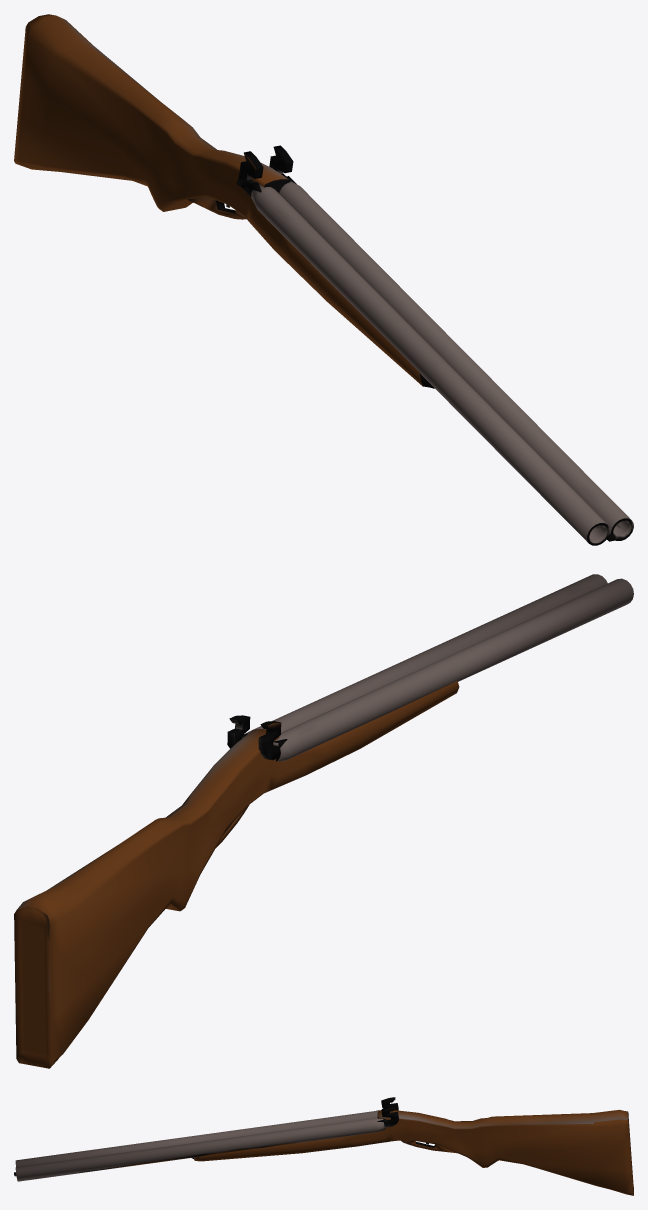
Rendered from gun.obj.
3 renders of one model, top to bottom at view 1: azimuth 30°, elevation 25°; view 2: azimuth 150°, elevation 25°; view 3: azimuth 270°, elevation 25°, orthographic. The views are drawn at different scales.
Parts seen in each view (by area): view 1: SHOTGUN_Cube.000; view 2: SHOTGUN_Cube.000; view 3: SHOTGUN_Cube.000.
Boxes of the visible parts, x1,y1,x2,y2 form: SHOTGUN_Cube.000: (14,14,633,545); SHOTGUN_Cube.000: (14,574,633,1068); SHOTGUN_Cube.000: (14,1097,633,1195).
Size of the model in its own units: 0.3859 by 1.15 by 6.86.
Materials: 1 (1 with a texture image).
